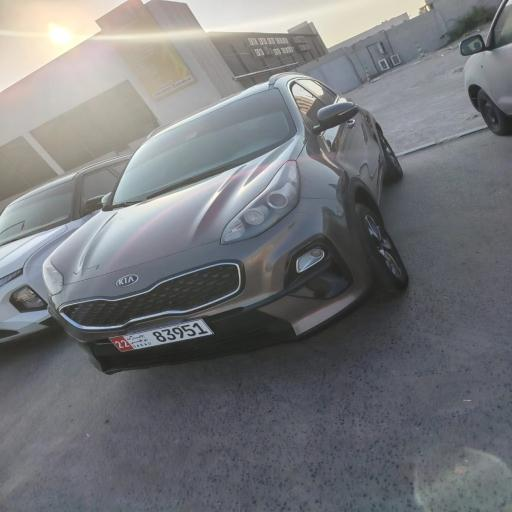license-plates: (109, 320, 213, 352)
